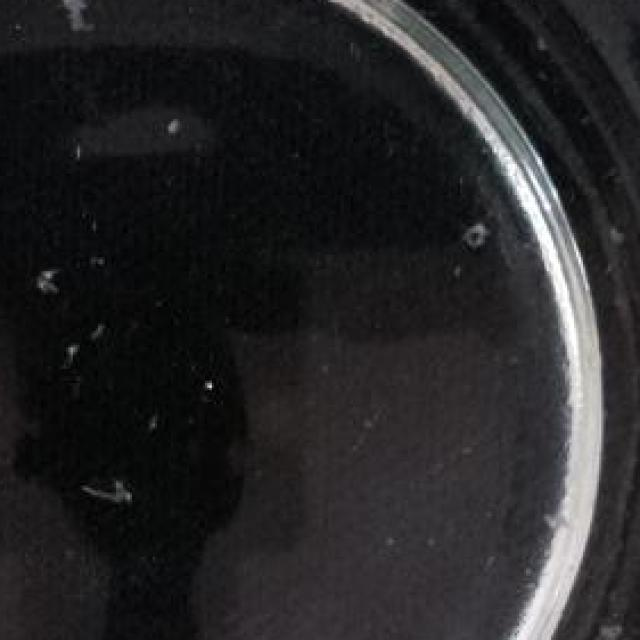Microplastic: (41, 0, 111, 40)
